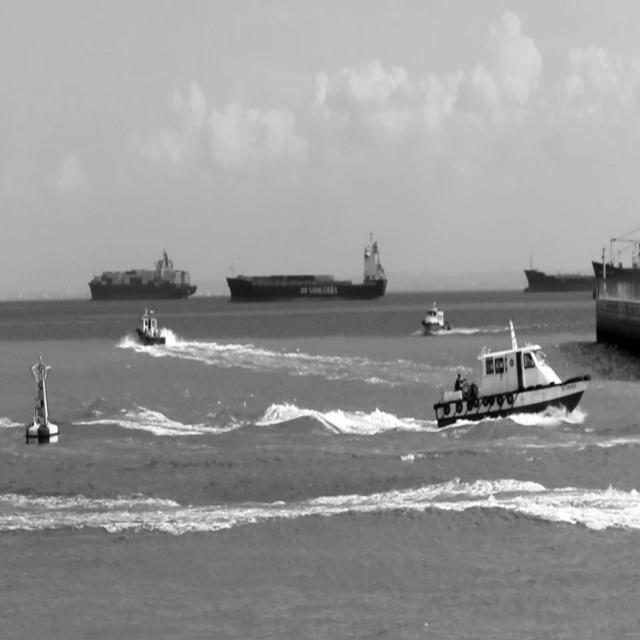buoy: (24, 358, 61, 446)
ship: (432, 317, 590, 431), (225, 230, 388, 304), (89, 246, 198, 302), (523, 254, 595, 294), (136, 305, 166, 348), (421, 302, 452, 336)
